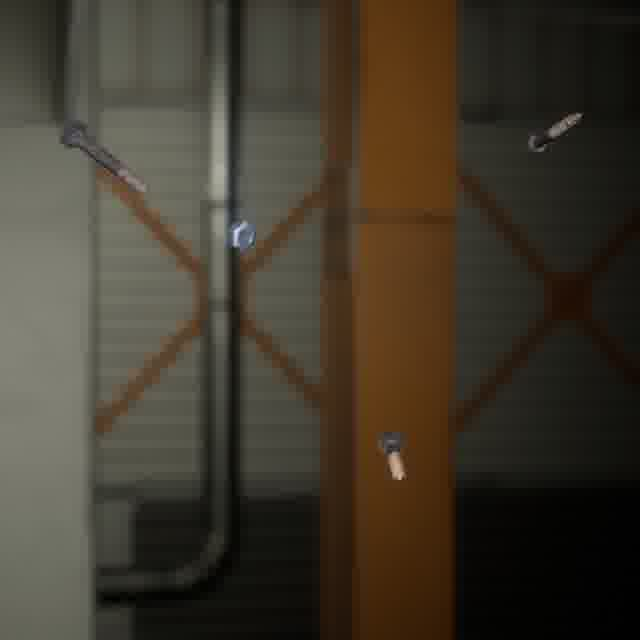bolt: (56, 116, 152, 199), (520, 108, 586, 159), (373, 426, 410, 486)
nut: (222, 214, 260, 256)
